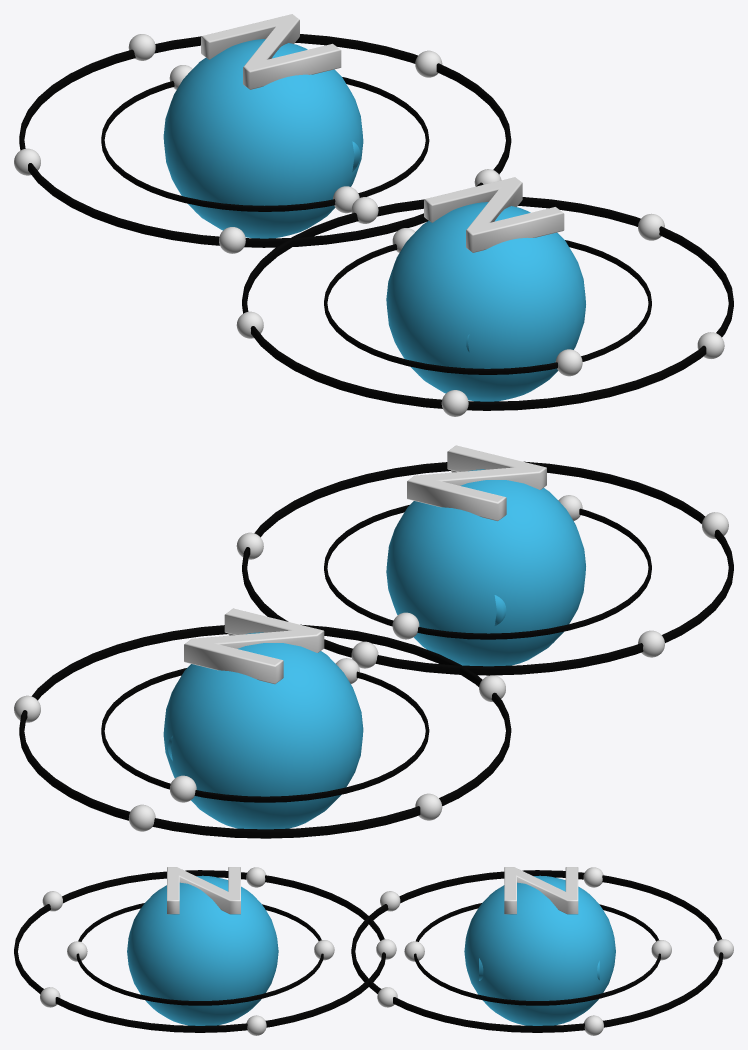
Rendered from Nitrogen.glb.
3 views of the same model, one above another, from view 1: azimuth 30°, elevation 25°; view 2: azimuth 150°, elevation 25°; view 3: azimuth 270°, elevation 25° (orthographic). The views are drawn at different scales.
Visible parts, largest first — view 1: Sphere.008, Sphere, BézierCircle.003, BézierCircle.001, Text, Text.001, BézierCircle, BézierCircle.002; view 2: Sphere, Sphere.008, BézierCircle.001, BézierCircle.003, Text, Text.001, BézierCircle, BézierCircle.002; view 3: Sphere.008, Sphere, BézierCircle.001, BézierCircle.003, BézierCircle.002, BézierCircle, Text, Text.001, Sphere.003, Sphere.014, Sphere.006, Sphere.010 (+10 smaller).
Boxes of the visible parts, x1,y1,x2,y2 form: Sphere.008: (386,202,585,401); Sphere: (163,39,363,238); BézierCircle.003: (242,197,733,410); BézierCircle.001: (19,34,511,247); Text: (201,14,341,89); Text.001: (424,177,564,252); BézierCircle: (101,77,429,211); BézierCircle.002: (324,240,651,374); Sphere: (163,632,363,829); Sphere.008: (386,469,585,666); BézierCircle.001: (19,624,511,838); BézierCircle.003: (242,461,733,675); Text: (184,608,324,684); Text.001: (407,445,546,521); BézierCircle: (101,668,429,802); BézierCircle.002: (324,505,651,639); Sphere.008: (127,875,278,1025); Sphere: (464,875,615,1025); BézierCircle.001: (351,870,723,1032); BézierCircle.003: (14,870,385,1032); BézierCircle.002: (76,903,323,1005); BézierCircle: (414,903,660,1005); Text: (504,867,578,914); Text.001: (167,867,240,914); Sphere.003: (583,867,603,887); Sphere.014: (246,1015,266,1035); Sphere.006: (584,1015,603,1035); Sphere.010: (314,940,334,960).
Bounding box in the file's own units: 18.18 × 7.53 × 35.14.
